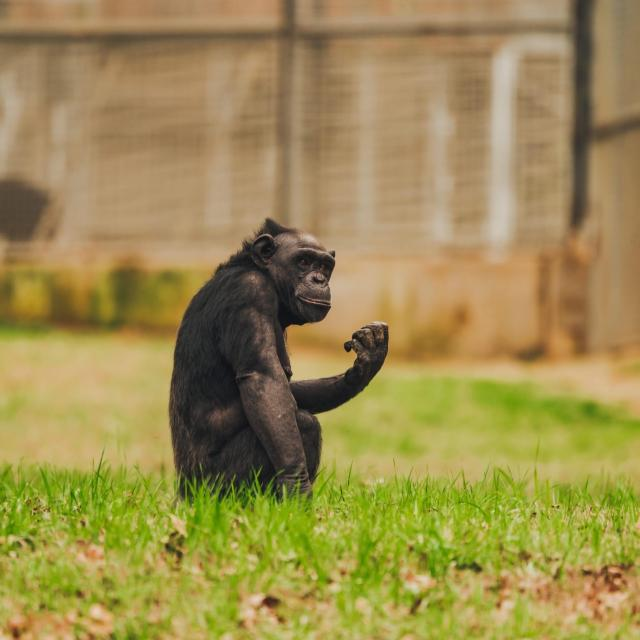Chimpanzee: (167, 212, 388, 497)
